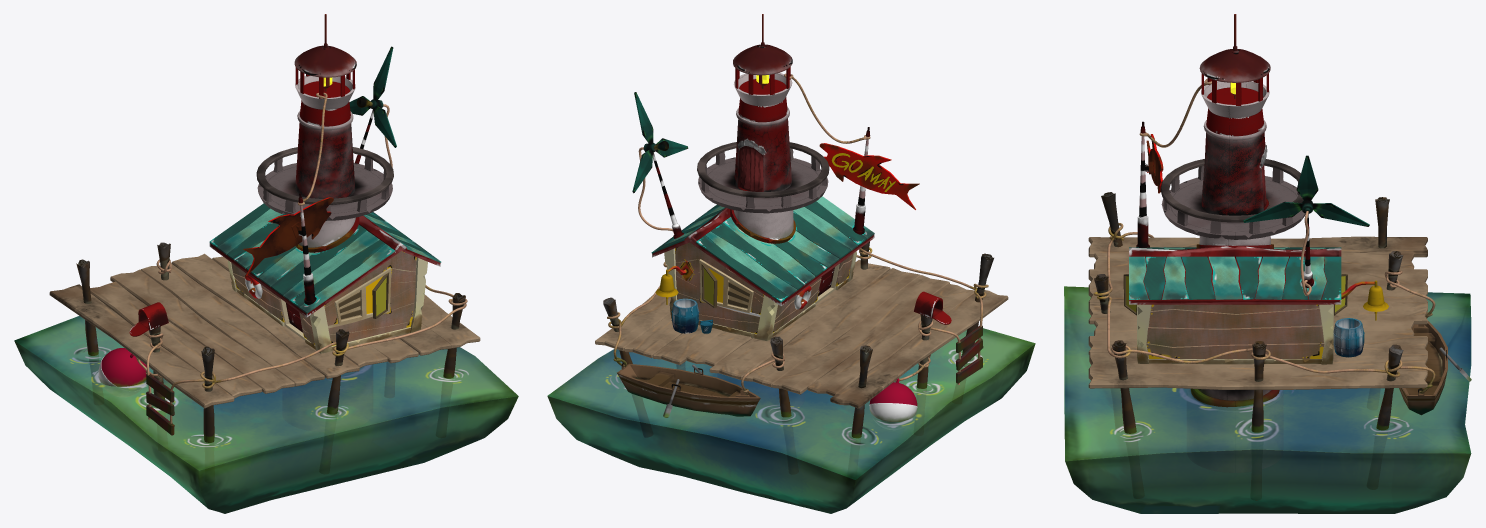
The model's file is lighthouse_-_handpainted.glb.
3 views of the same model, side by side, from view 1: azimuth 30°, elevation 25°; view 2: azimuth 150°, elevation 25°; view 3: azimuth 270°, elevation 25° (orthographic). The views are drawn at different scales.
Visible parts, largest first — view 1: Cube, Cube.009, Cylinder, Cube.012, Cylinder.006, Cube.008, NurbsPath.006, Plane, Cube.004, Cylinder.002, Torus.001, Cylinder.001 (+7 smaller); view 2: Cube, Cube.009, Cylinder, Cube.012, Plane.001, Cylinder.006, Cube.008, Plane, NurbsPath.006, Cylinder.004, Cylinder.001, Cube.004 (+10 smaller); view 3: Cube, Cube.009, Cylinder, Cube.012, Cube.008, Cylinder.006, Cube.010, NurbsPath.006, Cylinder.004, Cube.004, Plane.001, Cylinder.002 (+6 smaller).
Boxes of the visible parts, x1,y1,x2,y2 form: Cube: (14,316,518,513); Cube.009: (49,253,480,408); Cylinder: (257,67,392,431); Cube.012: (209,203,441,313); Cylinder.006: (76,242,465,473); Cube.008: (231,251,416,345); NurbsPath.006: (136,92,467,435); Plane: (243,197,333,275); Cube.004: (227,257,427,353); Cylinder.002: (294,14,356,91); Torus.001: (98,348,146,396); Cylinder.001: (256,147,393,204); Cube: (547,328,1035,513); Cube.009: (595,259,1008,408); Cylinder: (698,67,828,415); Cube.012: (651,196,874,302); Plane.001: (617,363,760,416); Cylinder.006: (603,241,993,473); Cube.008: (675,242,853,334); Plane: (819,143,919,209); NurbsPath.006: (607,73,988,395); Cylinder.004: (632,92,688,238); Cylinder.001: (697,142,829,197); Cube.004: (664,248,856,341); Cube: (1064,286,1471,513); Cube.009: (1088,236,1427,389); Cylinder: (1161,73,1305,472); Cube.012: (1129,247,1341,299); Cube.008: (1146,304,1324,359); Cylinder.006: (1094,192,1403,500); Cube.010: (1129,245,1341,304); NurbsPath.006: (1093,78,1435,393); Cylinder.004: (1243,155,1369,287); Cube.004: (1137,304,1333,364); Plane.001: (1399,321,1447,415); Cylinder.002: (1199,14,1270,98).
Size of the model in its own units: 21.08 by 27.18 by 21.25.
Materials: 30 (29 with a texture image).
